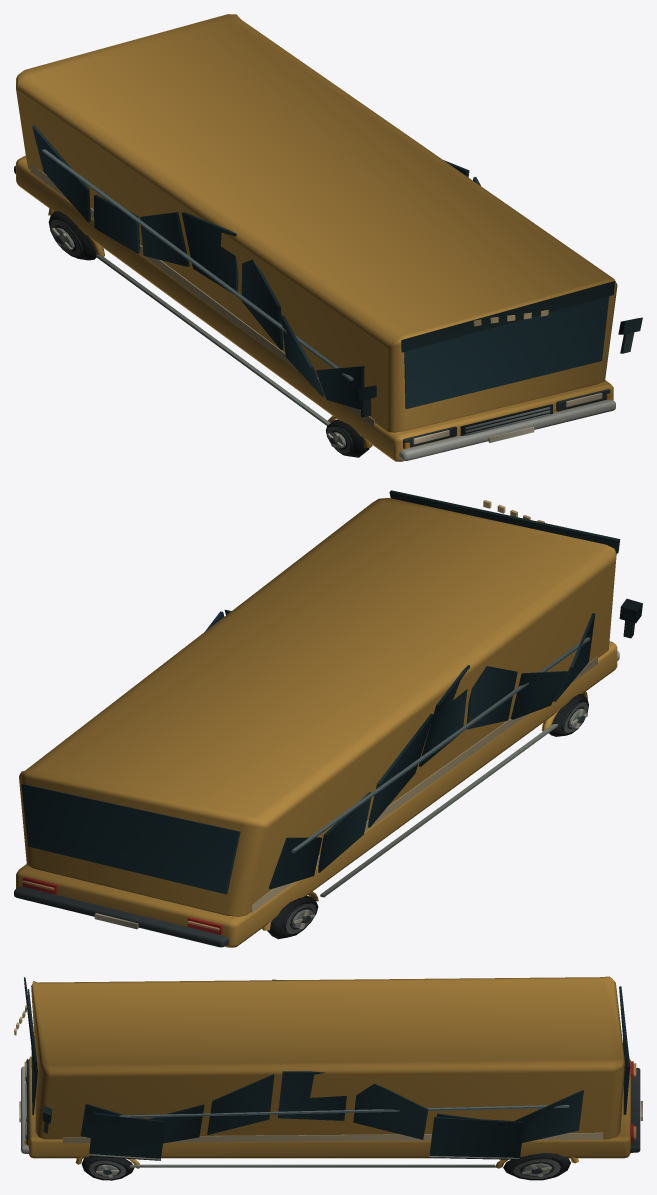
File: bus.glb
The picture shows the model from 3 angles, top to bottom: view 1: azimuth 30°, elevation 25°; view 2: azimuth 150°, elevation 25°; view 3: azimuth 270°, elevation 25°; orthographic projection. The views are drawn at different scales.
Parts seen in each view (by area): view 1: bus_body; view 2: bus_body; view 3: bus_body.
Part boxes in pixels (x1=…): bus_body: x1=14, y1=14, x2=642, y2=461; bus_body: x1=14, y1=490, x2=642, y2=947; bus_body: x1=14, y1=976, x2=642, y2=1180.
Bounding box in the file's own units: 3 × 1.53 × 7.24.
